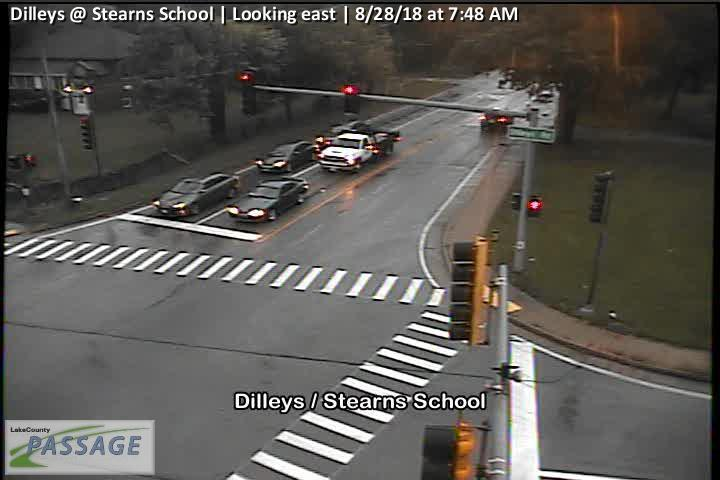SUV: (153, 170, 240, 217), (478, 109, 513, 130)
Sedan: (227, 176, 309, 222), (256, 140, 317, 173), (331, 119, 369, 136)
Truck: (318, 125, 400, 174)
